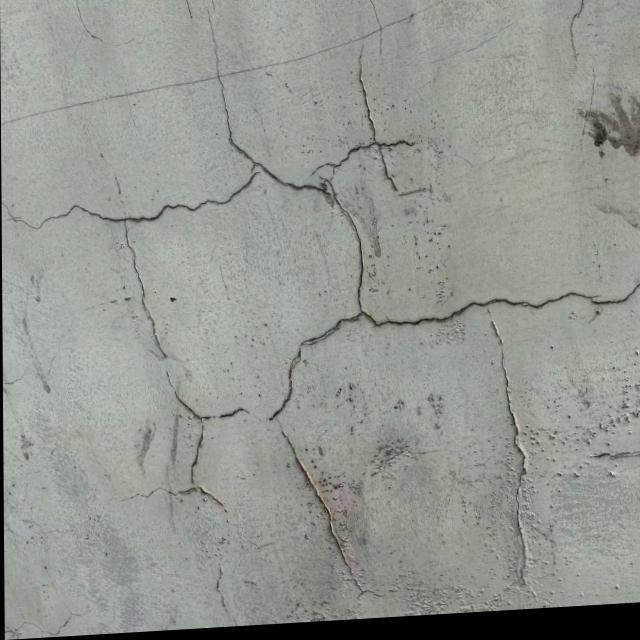crack: (4, 3, 639, 622), (270, 416, 366, 597), (480, 305, 537, 591), (568, 0, 588, 67)
